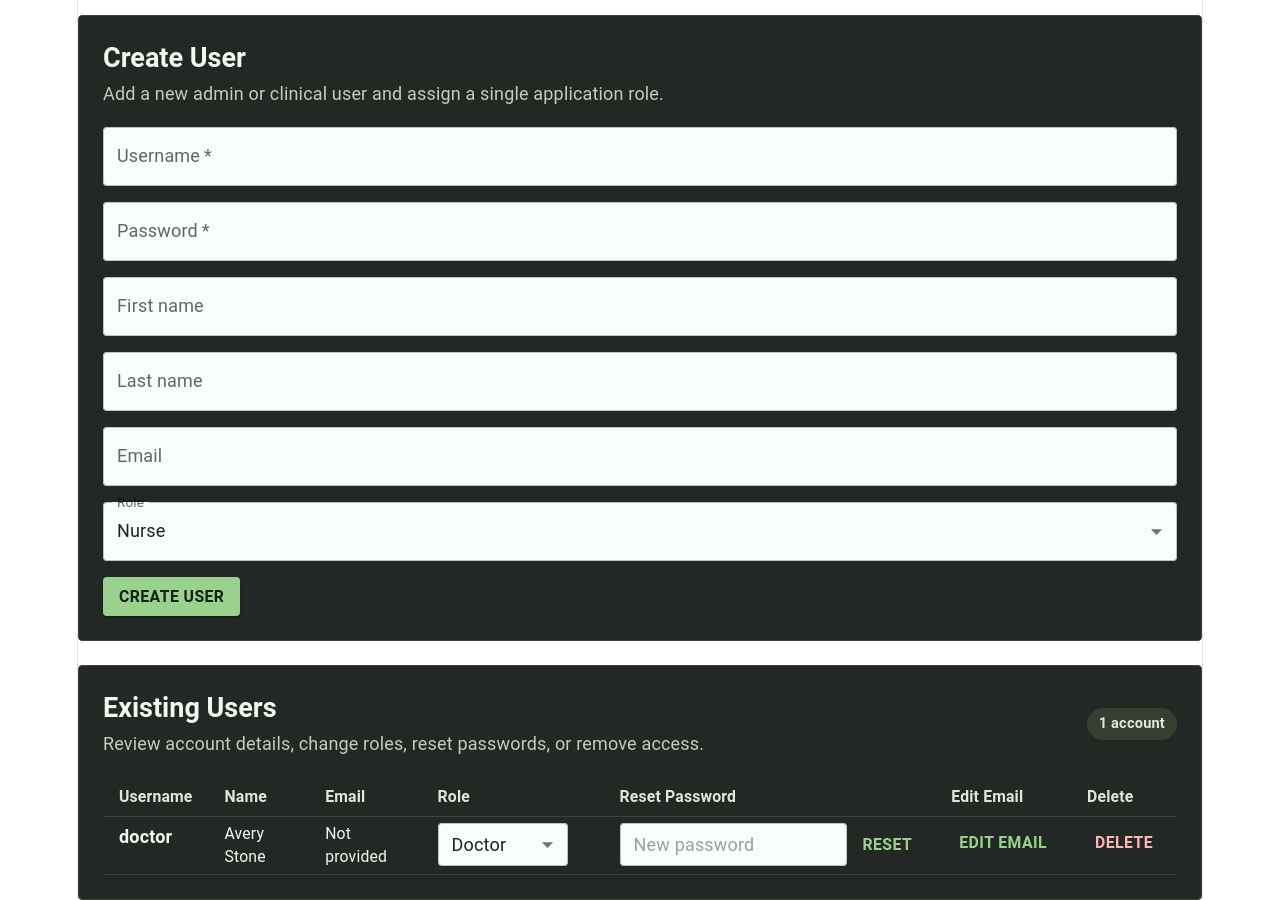
UserManagementPage › lets admins add an email from the user table
This screenshot has width=1280, height=900.
(page scrolled)
Check: the text "doctor" is shown, box [119,826,172,847]
Click the button "Edit Email" at (1003, 843), box [951,823,1055,863]
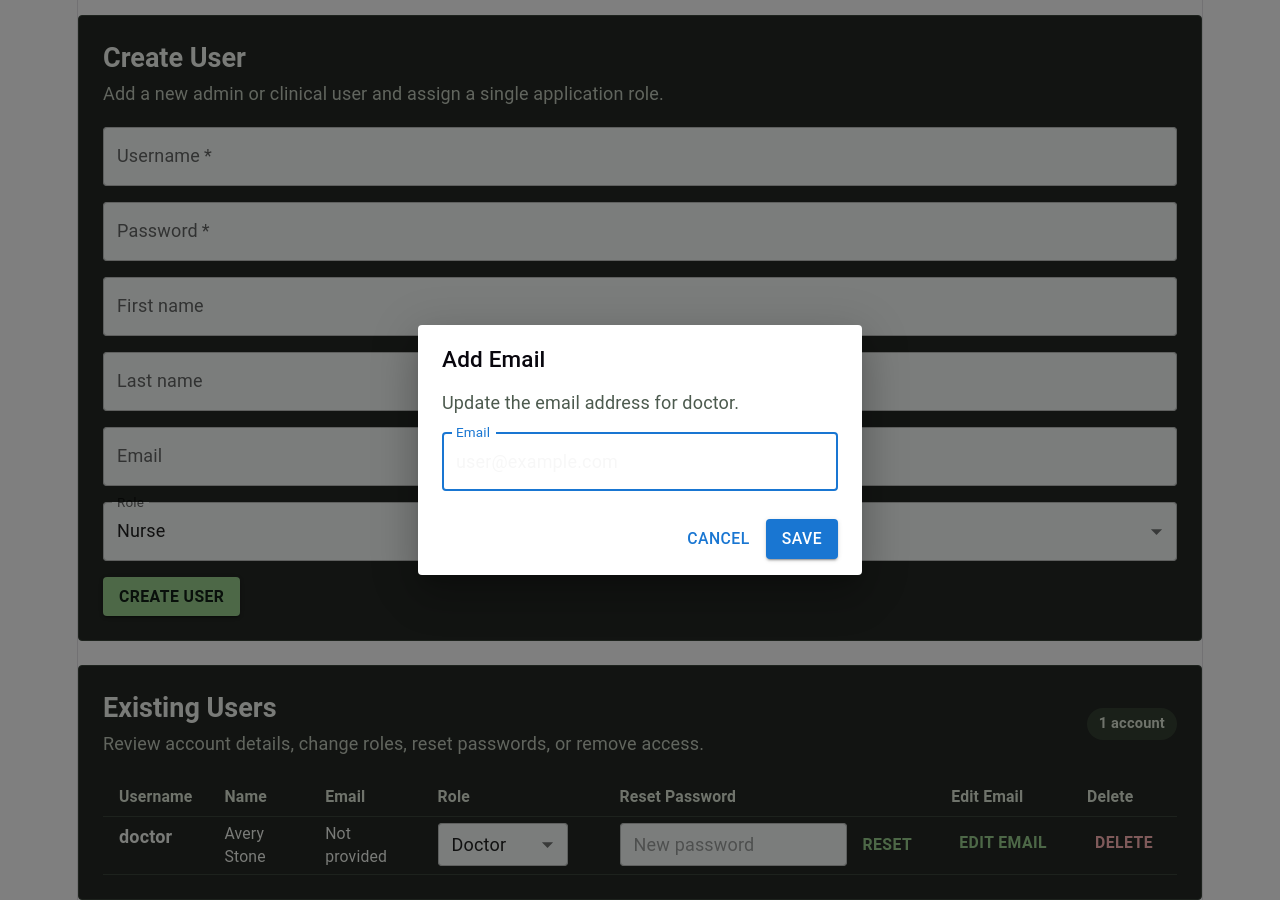
Check: the field labelled "Email" is shown
Type "doctor@example.com" into the field labelled "Email" at (640, 462), box [442,432,838,491]
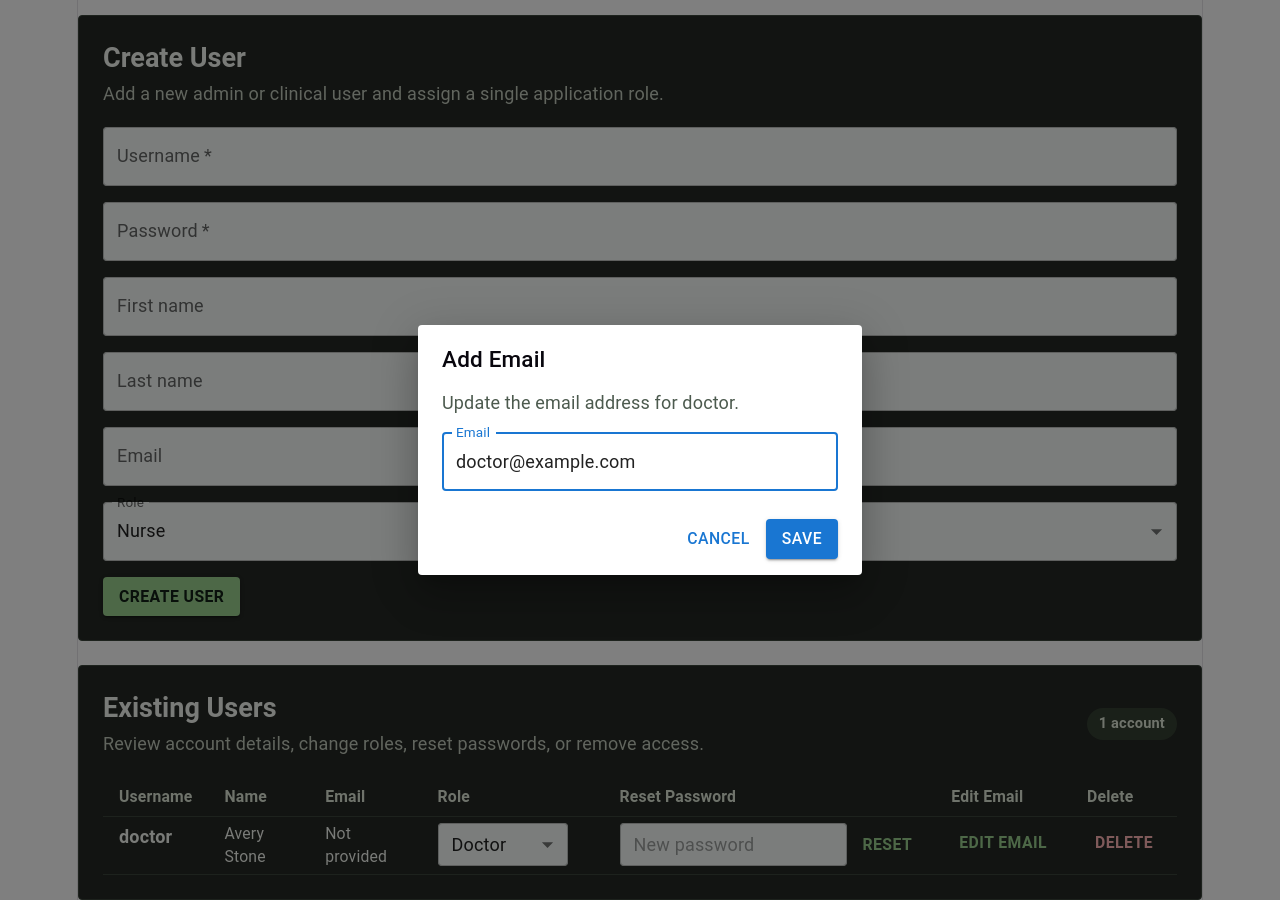
Click the button "Save" at (802, 539), box [766,519,838,559]
(page scrolled)
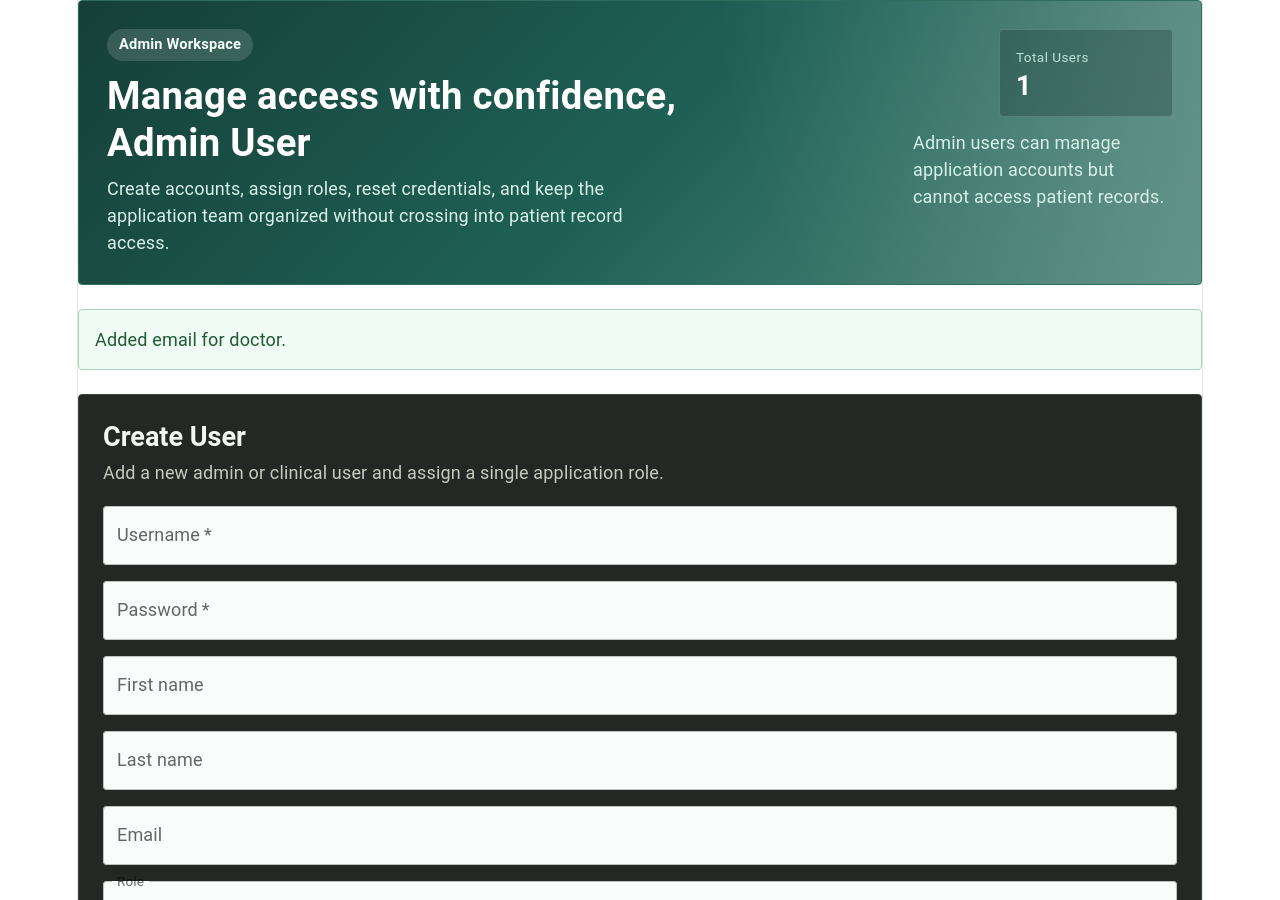
Check: the text "Added email for doctor." is shown, box [95,330,286,350]
